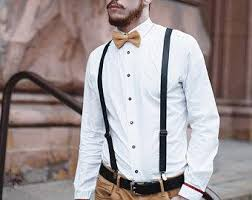F_belt: (94, 160, 198, 196)
F_shirt: (69, 25, 226, 199)
